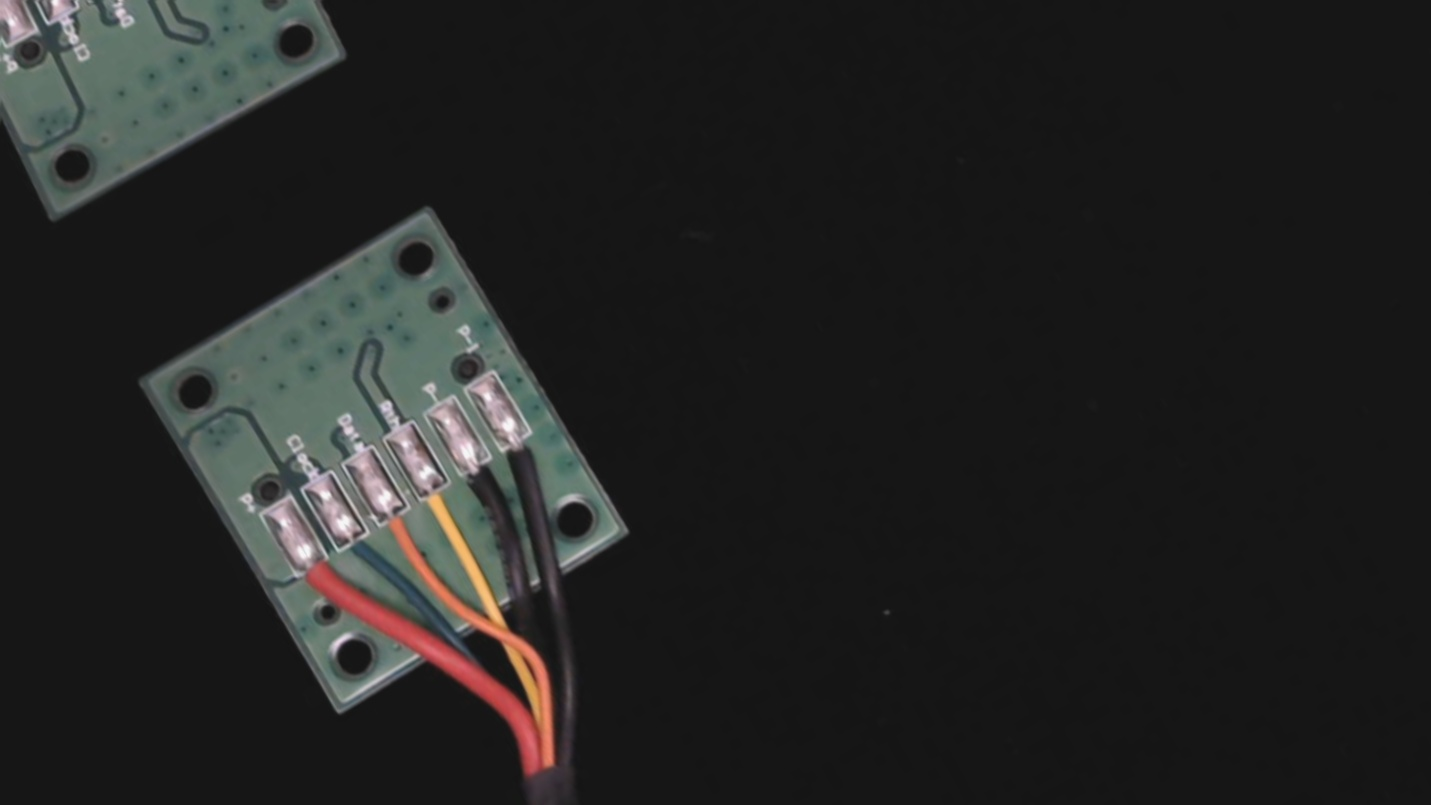Black: (446, 441, 525, 529)
Black1: (486, 412, 568, 502)
Green: (322, 514, 394, 592)
Orange: (361, 488, 436, 568)
Red: (282, 538, 357, 619)
Yellow: (403, 464, 477, 548)
